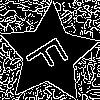F: (24, 29, 78, 80)
